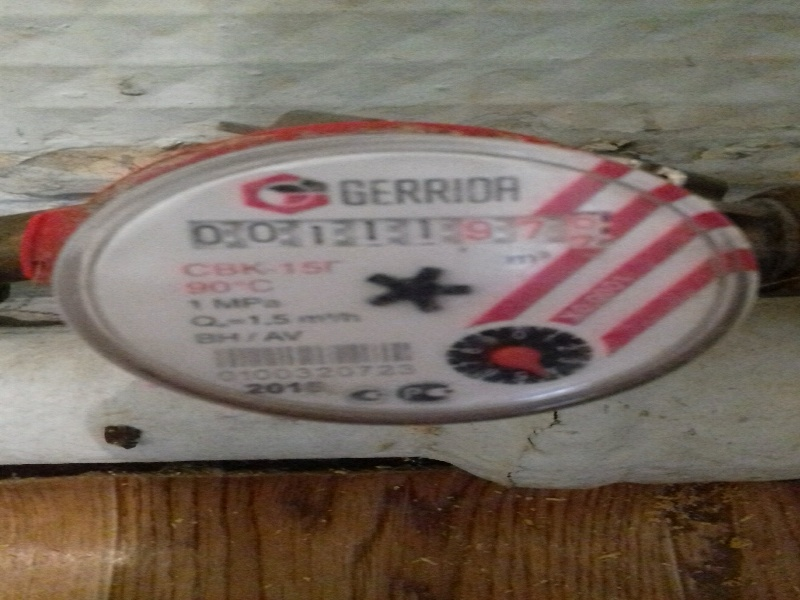meter: (183, 214, 605, 258)
